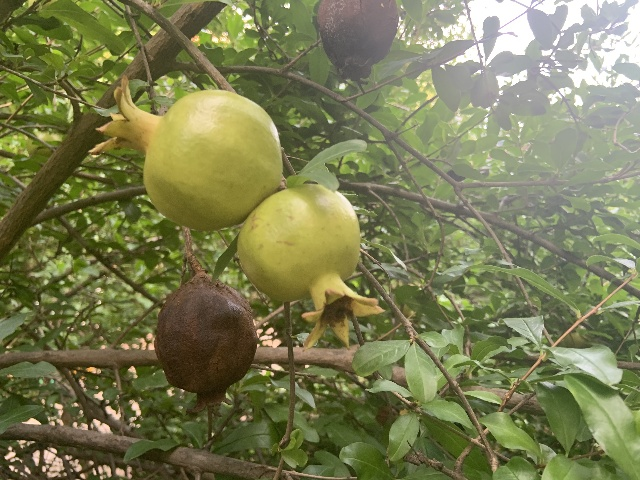mid-growth: (88, 76, 283, 228), (237, 183, 386, 350)
